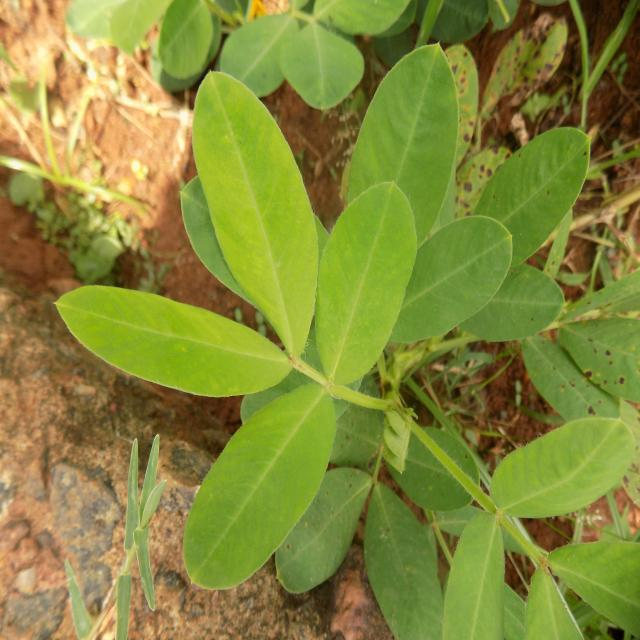Ground nut_healthy: (197, 68, 318, 373), (180, 384, 332, 592), (58, 285, 288, 400), (307, 181, 417, 386)
